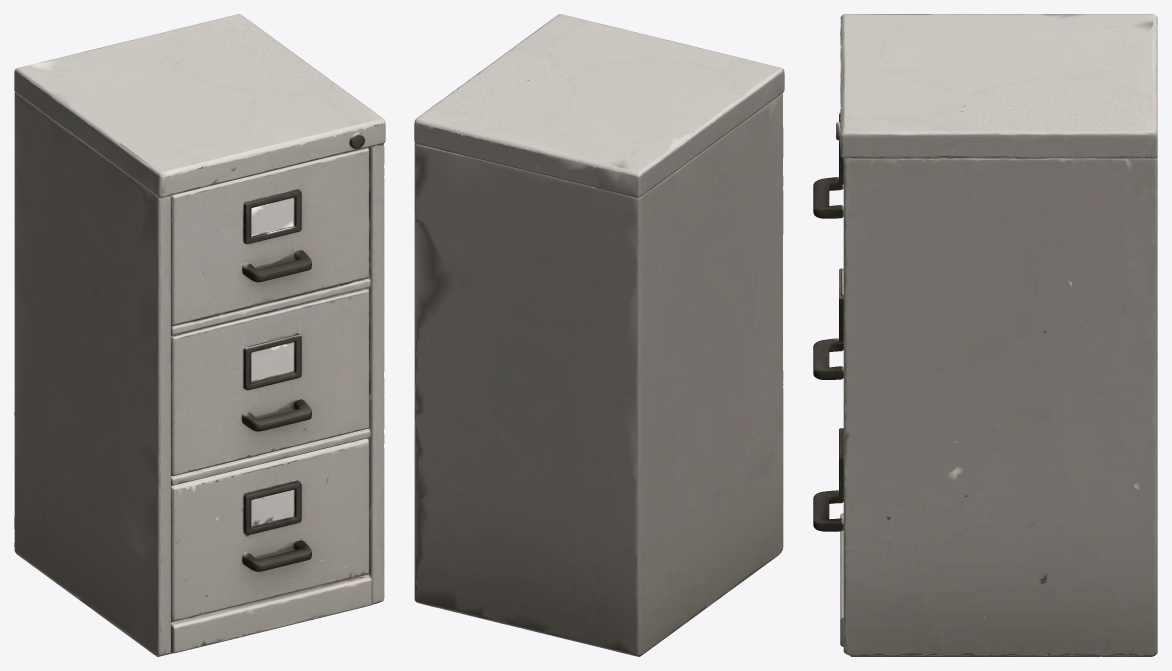
The model's file is filing_cabinet_0194476c_v4.glb.
3 renders of one model, left to right at view 1: azimuth 30°, elevation 25°; view 2: azimuth 150°, elevation 25°; view 3: azimuth 270°, elevation 25°, orthographic. The views are drawn at different scales.
Parts seen in each view (by area): view 1: material; view 2: material; view 3: material.
Part boxes in pixels (x1,y1,x2,y2): material: (14,14,385,656); material: (414,14,784,656); material: (813,14,1157,656).
Bounding box in the file's own units: 0.4681 × 0.9592 × 0.5697.
Materials: 1 (1 with a texture image).
